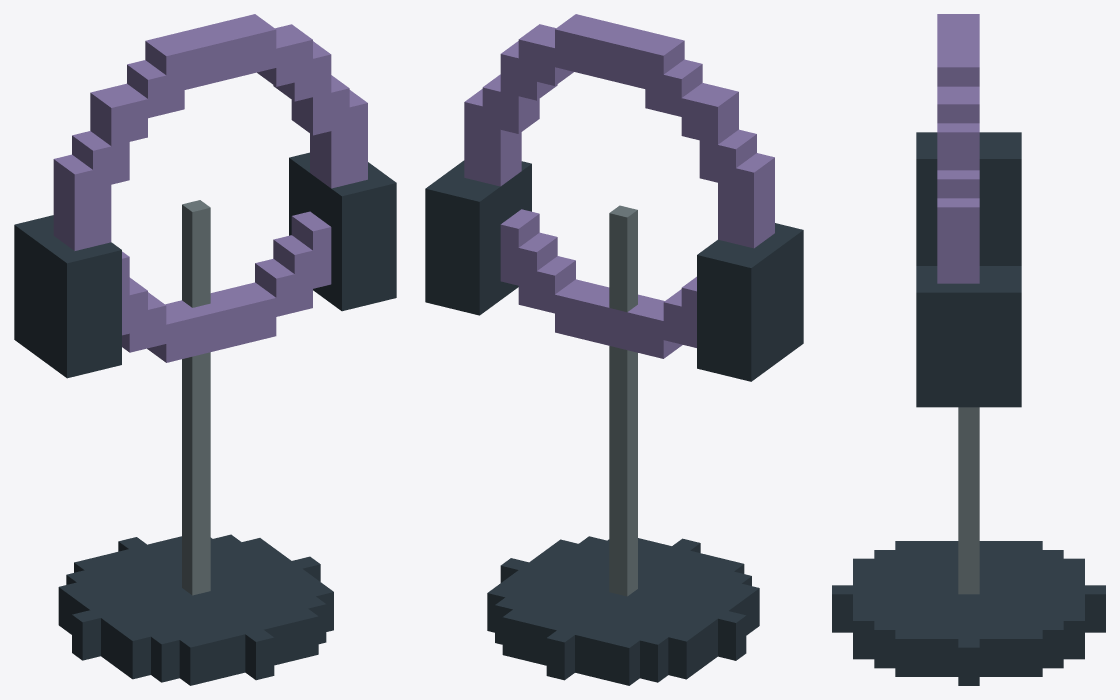
The model's file is software-17.glb.
3 renders of one model, left to right at view 1: azimuth 30°, elevation 25°; view 2: azimuth 150°, elevation 25°; view 3: azimuth 270°, elevation 25°, orthographic.
Parts seen in each view (by area): view 1: Headphone stand; view 2: Headphone stand; view 3: Headphone stand.
Boxes of the visible parts, <box> form: Headphone stand: <box>14,14,396,685</box>; Headphone stand: <box>425,14,803,685</box>; Headphone stand: <box>832,14,1105,685</box>.
Size of the model in its own units: 1.44 by 2.48 by 1.04.
